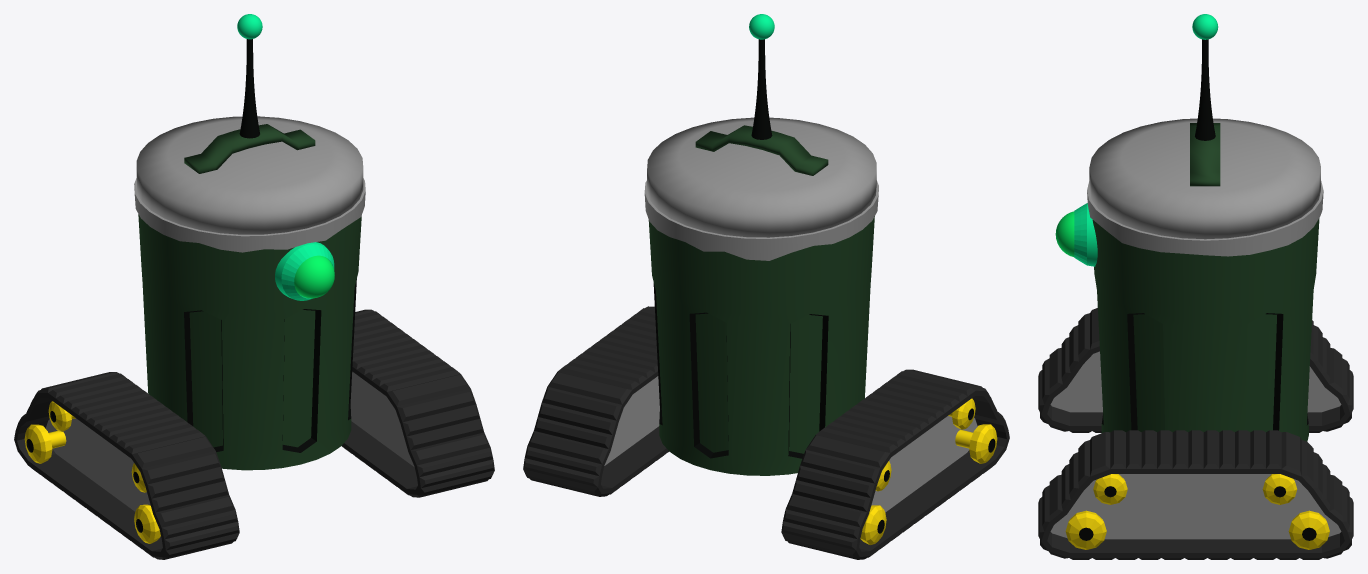
Rendered from mesh_trashbot.FBX.
3 renders of one model, left to right at view 1: azimuth 30°, elevation 25°; view 2: azimuth 150°, elevation 25°; view 3: azimuth 270°, elevation 25°, orthographic.
Parts seen in each view (by area): view 1: mesh_head, mesh_trashbot, mesh_tread, mesh_tread001; view 2: mesh_head, mesh_trashbot, mesh_tread, mesh_tread001; view 3: mesh_head, mesh_tread001, mesh_trashbot, mesh_tread.
Boxes of the visible parts, left/top/right/bottom form: mesh_head: left=134, top=14, right=365, bottom=310; mesh_trashbot: left=141, top=266, right=358, bottom=470; mesh_tread: left=14, top=372, right=239, bottom=559; mesh_tread001: left=342, top=309, right=494, bottom=497; mesh_head: left=644, top=14, right=878, bottom=313; mesh_trashbot: left=651, top=267, right=871, bottom=475; mesh_tread: left=781, top=369, right=1009, bottom=559; mesh_tread001: left=523, top=306, right=668, bottom=496; mesh_head: left=1055, top=14, right=1323, bottom=316; mesh_tread001: left=1038, top=430, right=1353, bottom=559; mesh_trashbot: left=1094, top=269, right=1316, bottom=441; mesh_tread: left=1038, top=308, right=1353, bottom=432.
Bounding box in the file's own units: 34.74 × 44.81 × 27.55.
